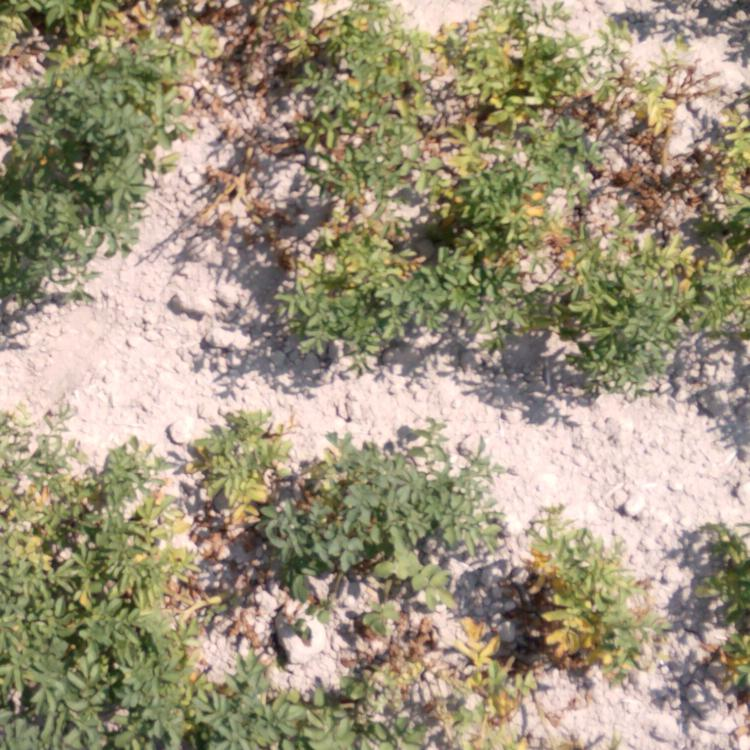healthy: (285, 436, 491, 557), (4, 611, 165, 742), (28, 65, 151, 173), (1, 194, 95, 310), (174, 663, 305, 742)
stressed: (565, 208, 744, 381), (320, 587, 521, 741), (237, 4, 396, 182), (1, 449, 178, 595), (415, 1, 590, 142), (424, 153, 557, 330), (273, 211, 414, 339), (603, 40, 698, 213), (526, 513, 623, 678), (5, 1, 202, 56), (186, 414, 263, 541), (698, 523, 748, 704), (705, 112, 750, 204)
